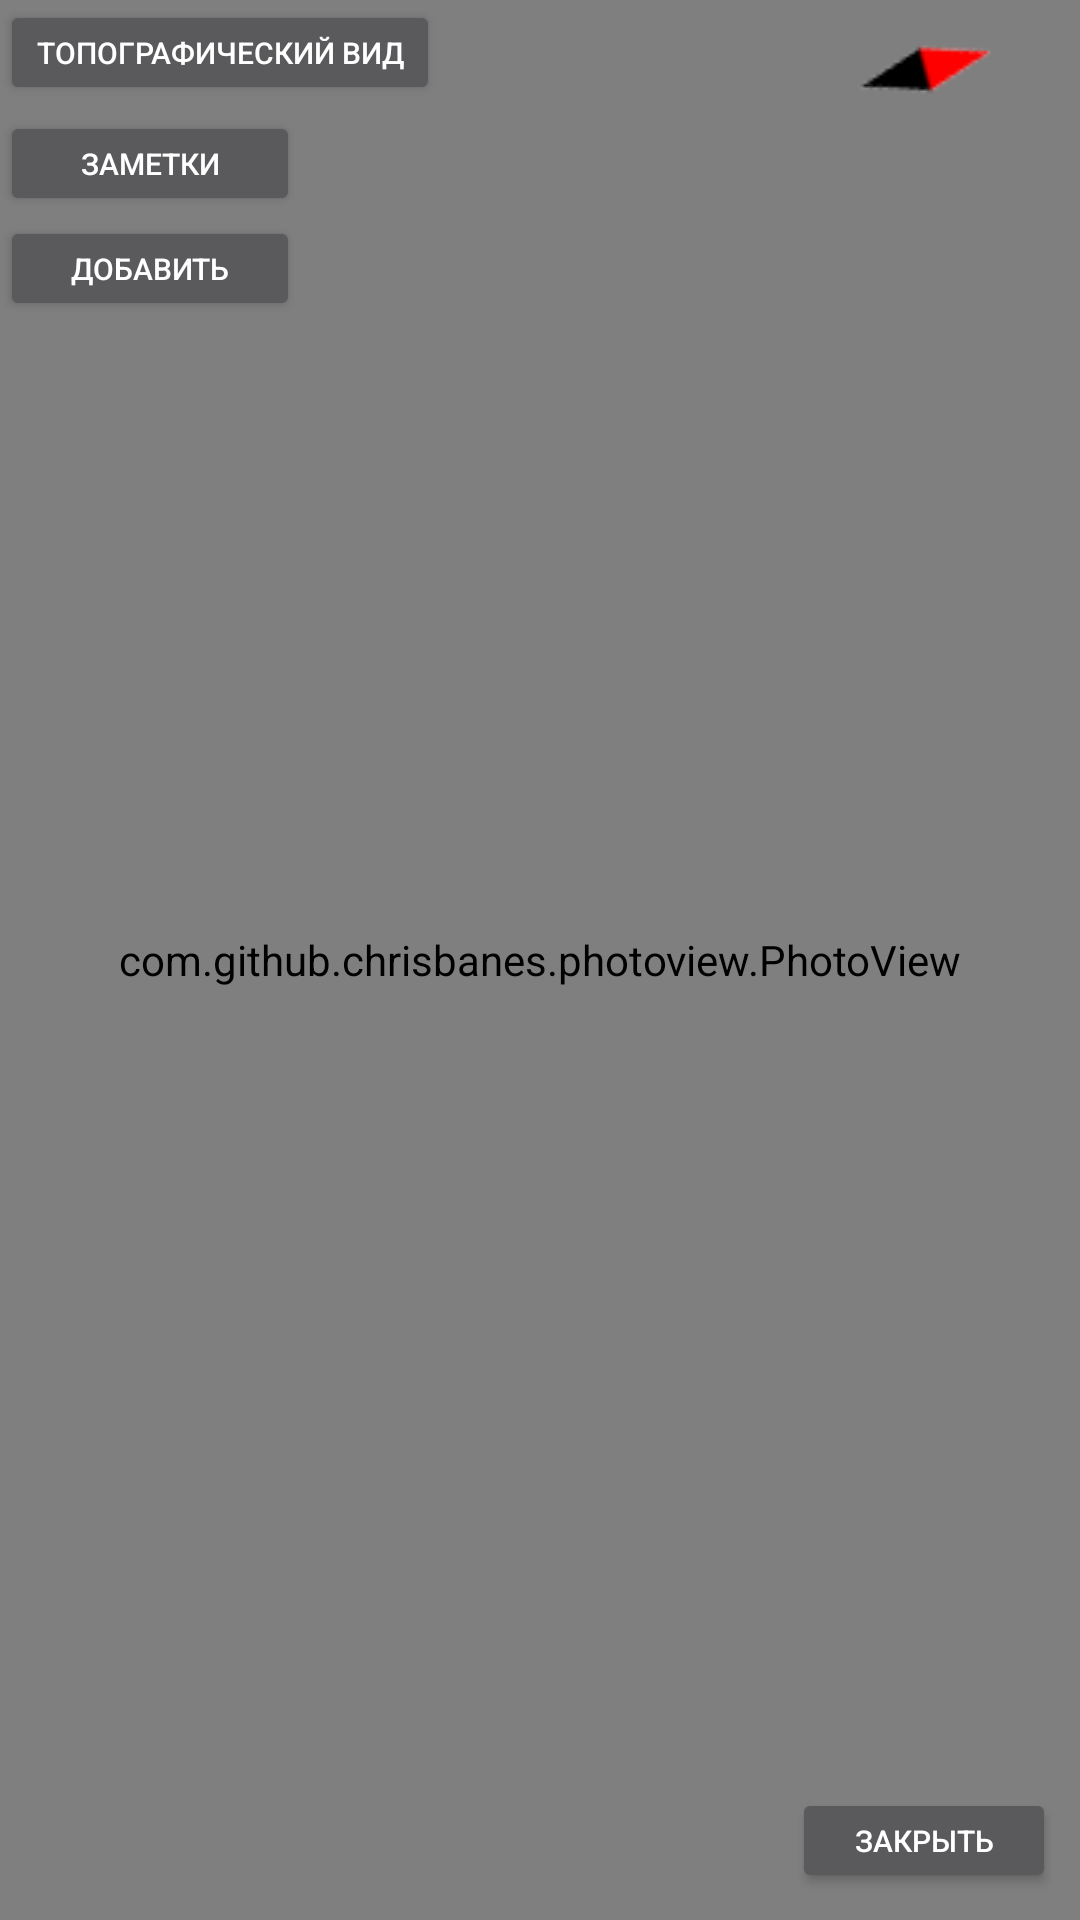

Icons on this 1080x1920 Android screen, each with its box as (x1, y1, x2, y2):
compass: (863, 46, 991, 91)
